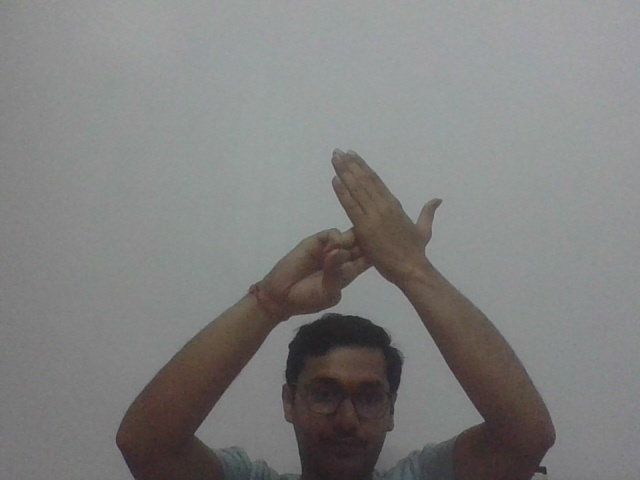M: (276, 145, 447, 316)
